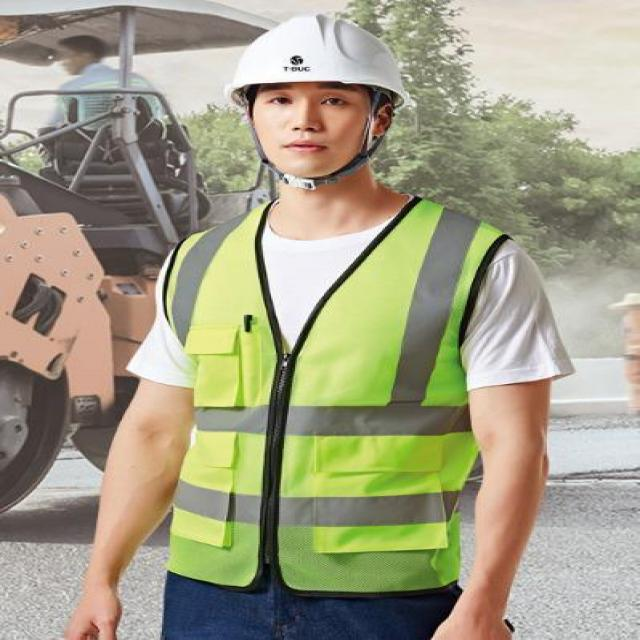hat: (223, 13, 407, 100)
